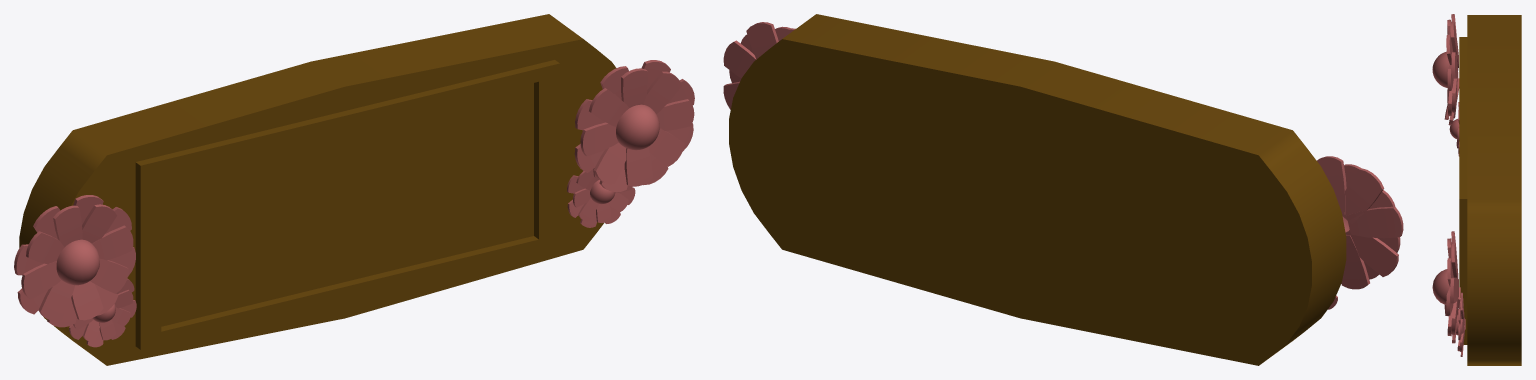
File: TutorialBUtton.fbx
3 views of the same model, side by side, from view 1: azimuth 30°, elevation 25°; view 2: azimuth 150°, elevation 25°; view 3: azimuth 270°, elevation 25° (orthographic). The views are drawn at different scales.
Parts seen in each view (by area): view 1: Button, Flower (×2), Flower1 (×2); view 2: Button, Flower (×2); view 3: Button, Flower (×2), Flower1 (×2).
Part boxes in pixels (box(x1,y1,x2,y2)): Button: box(19, 14, 616, 365); Flower (×2): box(14, 60, 694, 327); Flower1 (×2): box(69, 168, 635, 347); Button: box(729, 14, 1346, 365); Flower (×2): box(723, 22, 1403, 289); Button: box(1459, 15, 1521, 365); Flower (×2): box(1432, 14, 1460, 343); Flower1 (×2): box(1449, 102, 1465, 356).
Size of the model in its own units: 19.05 by 6.22 by 2.73.
